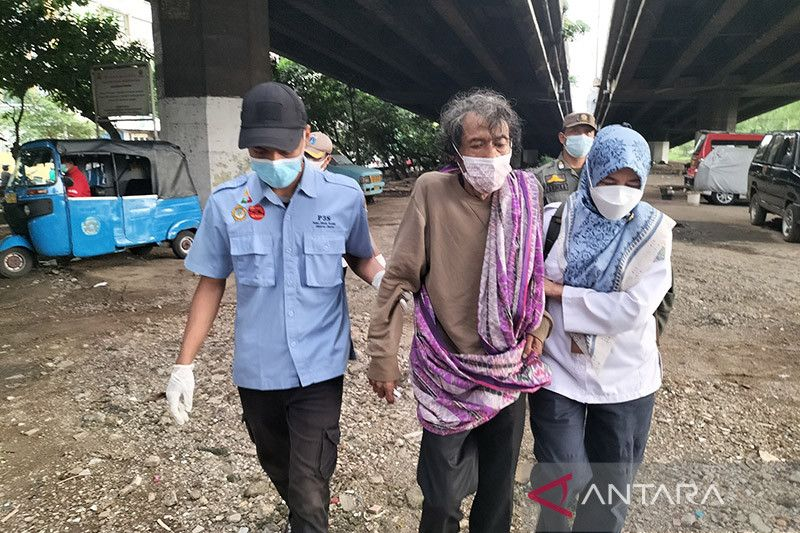gelandangan: (372, 88, 544, 533)
